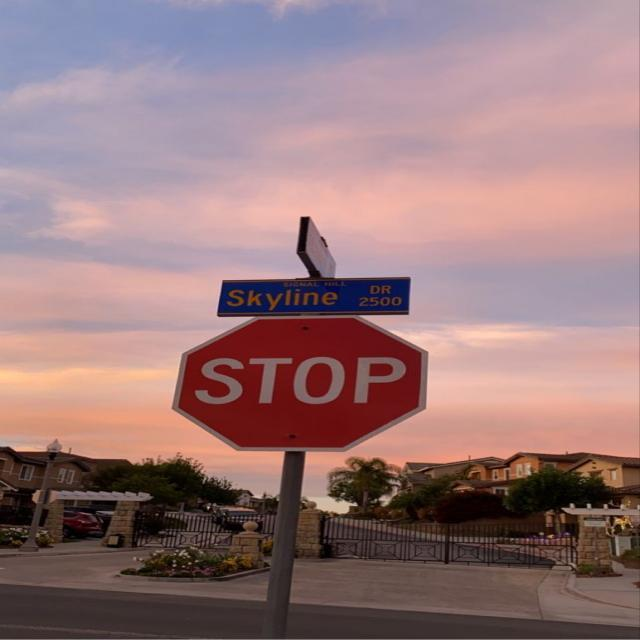stop: (171, 314, 428, 452)
